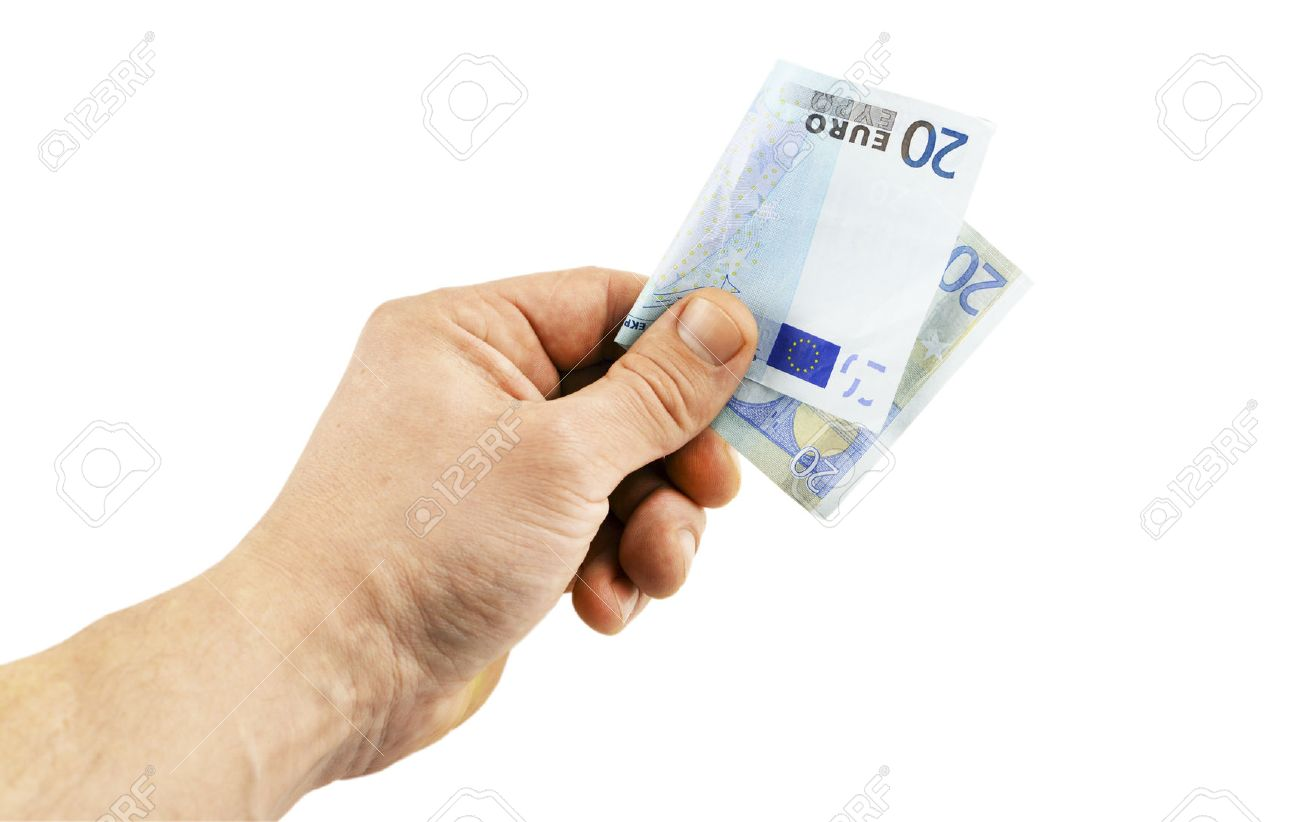billete: (607, 54, 1039, 528)
